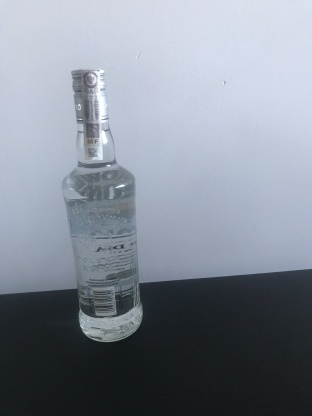nakretka: (68, 64, 111, 126)
